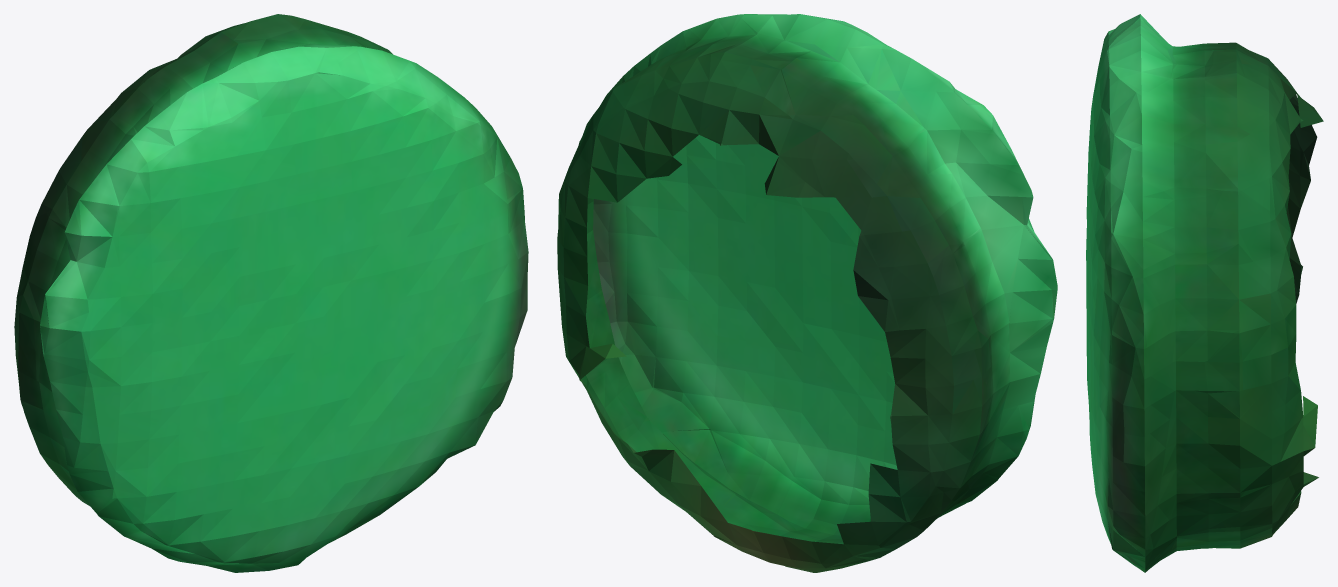
The model's file is bottle69_lid.dae.
The picture shows the model from 3 angles, left to right: view 1: azimuth 30°, elevation 25°; view 2: azimuth 150°, elevation 25°; view 3: azimuth 270°, elevation 25°; orthographic projection.
Visible parts, largest first — view 1: node; view 2: node; view 3: node.
Part boxes in pixels (<box>): node: <box>14,14,528,572</box>; node: <box>557,14,1057,572</box>; node: <box>1086,14,1323,572</box>.
Size of the model in its own units: 0.0523 by 0.053 by 0.0224.
Materials: 1 (1 with a texture image).
